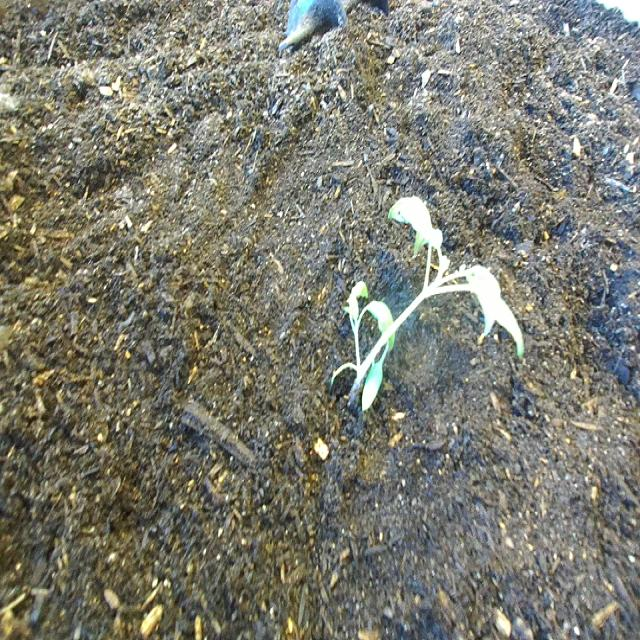Healthy: (321, 151, 538, 444)
